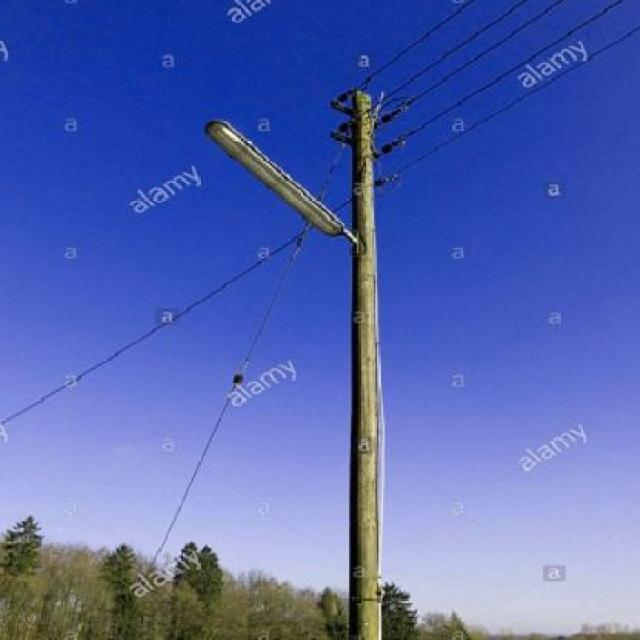pole: (288, 66, 437, 640)
